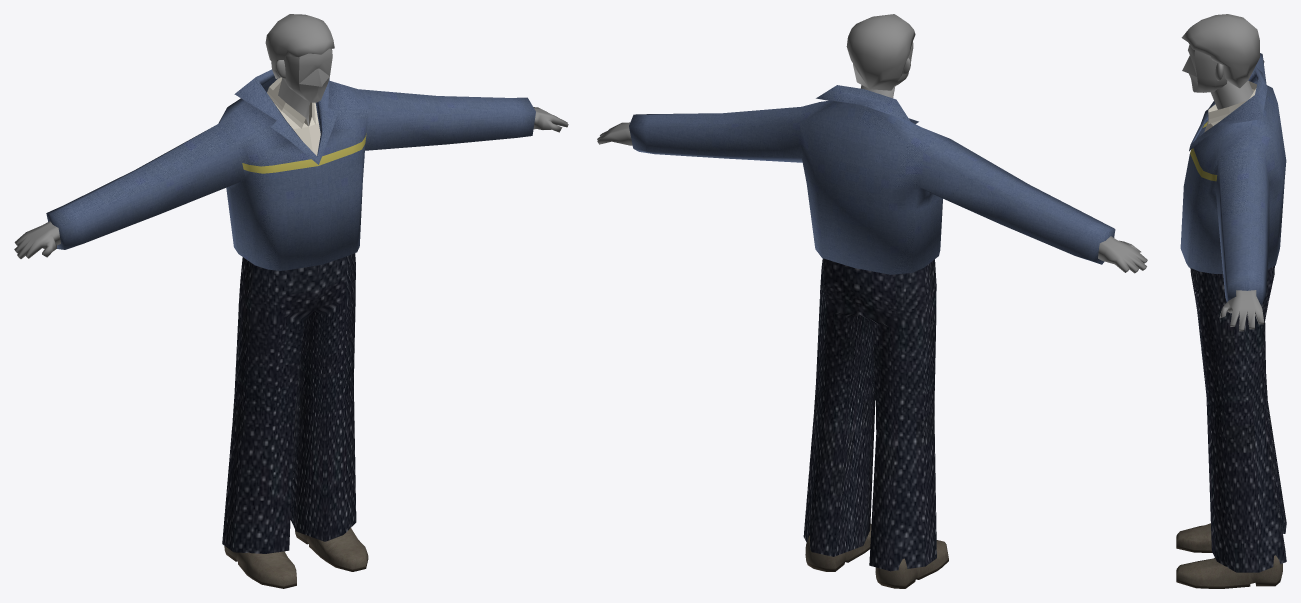
Rendered from protagonist_Tpose.fbx.
3 views of the same model, side by side, from view 1: azimuth 30°, elevation 25°; view 2: azimuth 150°, elevation 25°; view 3: azimuth 270°, elevation 25° (orthographic).
Parts seen in each view (by area): view 1: Cube.001, Cylinder, Cube, Cube.003, Plane, hand, Cube.002; view 2: Cube.001, Cylinder, Cube.003, Cube, hand; view 3: Cylinder, Cube.001, Cube.003, Cube, Plane, hand, Cylinder.001, Cube.002.
Part boxes in pixels (left/top/right/bottom): Cube.001: left=46, top=69, right=535, bottom=270; Cylinder: left=222, top=253, right=356, bottom=553; Cube: left=224, top=527, right=368, bottom=588; Cube.003: left=265, top=14, right=334, bottom=78; Plane: left=284, top=49, right=332, bottom=102; hand: left=14, top=107, right=568, bottom=258; Cube.002: left=267, top=77, right=320, bottom=155; Cube.001: left=629, top=85, right=1115, bottom=274; Cylinder: left=803, top=258, right=936, bottom=571; Cube.003: left=846, top=14, right=915, bottom=90; Cube: left=805, top=524, right=948, bottom=588; hand: left=597, top=122, right=1147, bottom=273; Cylinder: left=1190, top=266, right=1286, bottom=572; Cube.001: left=1180, top=53, right=1286, bottom=304; Cube.003: left=1181, top=14, right=1259, bottom=88; Cube: left=1176, top=523, right=1282, bottom=588; Plane: left=1182, top=45, right=1227, bottom=92; hand: left=1219, top=60, right=1264, bottom=331; Cylinder.001: left=1210, top=80, right=1253, bottom=109; Cube.002: left=1204, top=81, right=1256, bottom=132.
Size of the model in its own units: 286 by 271 by 49.77.
Materials: 11 (3 with a texture image).
